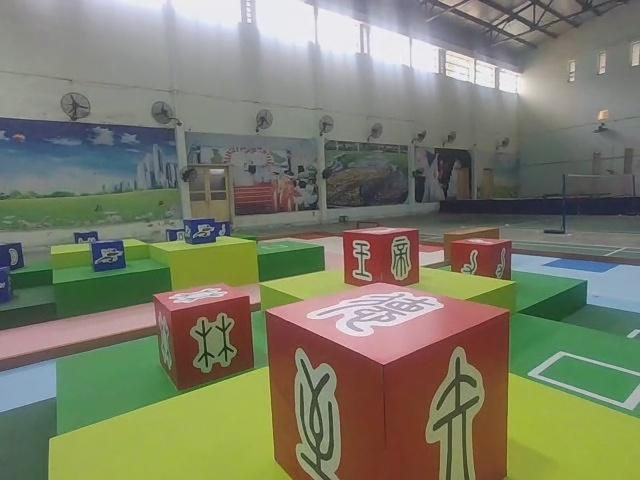R2 Fake: (266, 284, 508, 480), (343, 226, 421, 287)
R2 Real: (154, 284, 254, 392), (449, 235, 514, 284)
